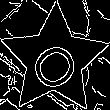O_NE: (22, 28, 86, 92)
